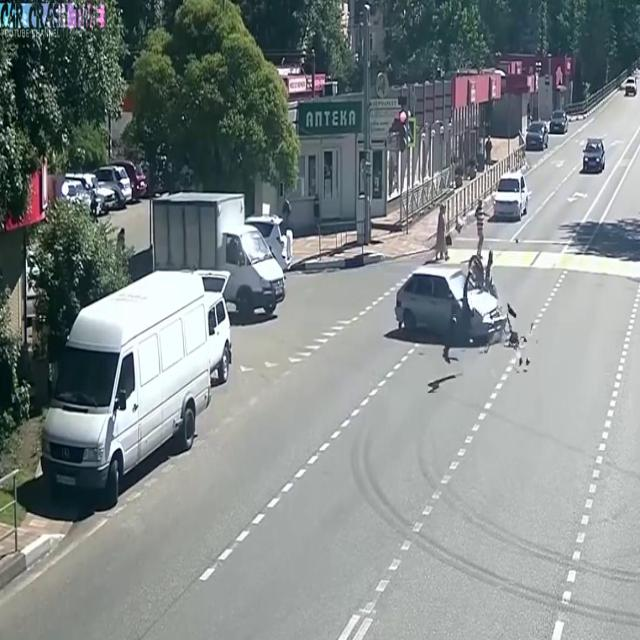accident: (387, 243, 529, 377)
non_accident: (21, 155, 295, 519)
